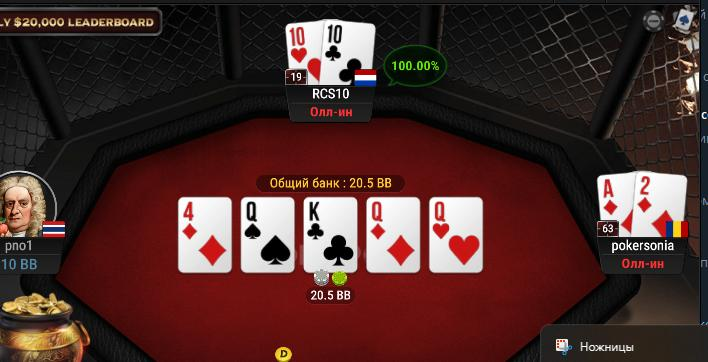10c: (322, 17, 375, 88)
10h: (284, 22, 322, 84)
2d: (634, 170, 688, 239)
4d: (178, 198, 231, 274)
Ad: (598, 174, 636, 238)
Kc: (303, 197, 358, 272)
Qd: (367, 197, 420, 272)
Qh: (431, 199, 483, 273)
Qs: (240, 198, 294, 272)
